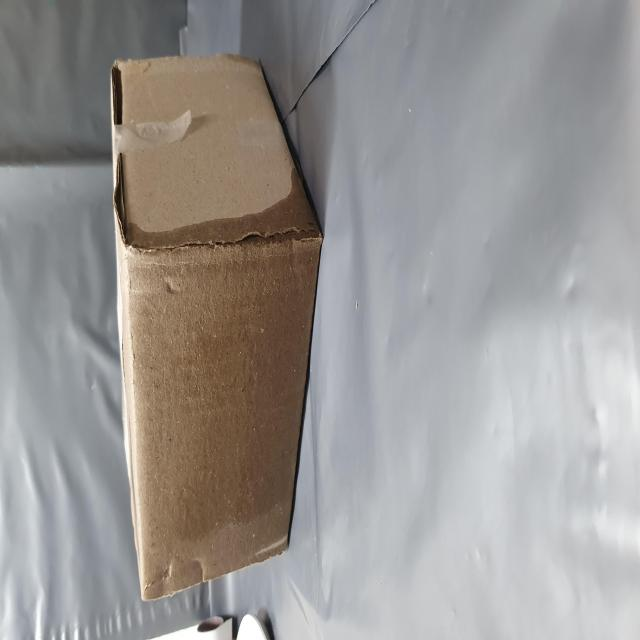wet: (31, 222, 253, 568)
